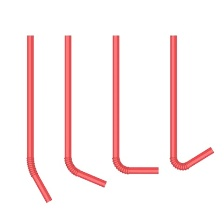drinking_straw: (107, 31, 162, 179), (60, 32, 110, 192), (166, 32, 216, 177), (19, 32, 55, 207)
